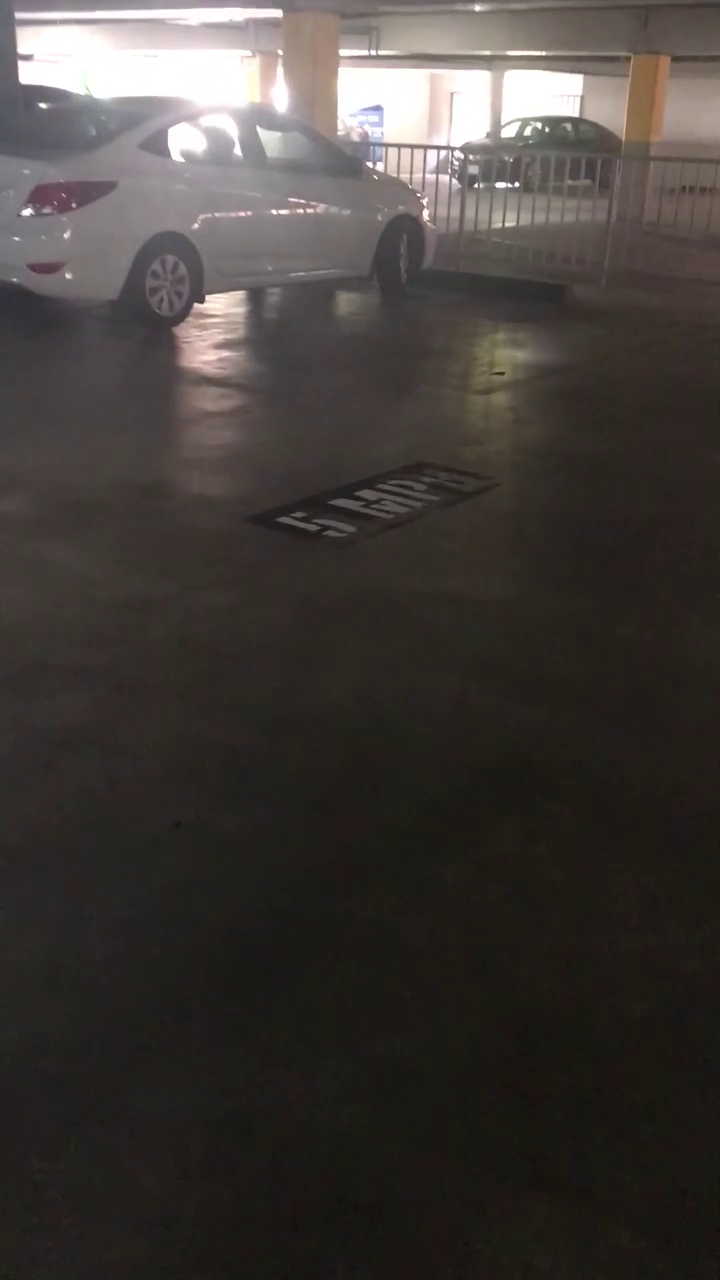car: (3, 67, 423, 336)
